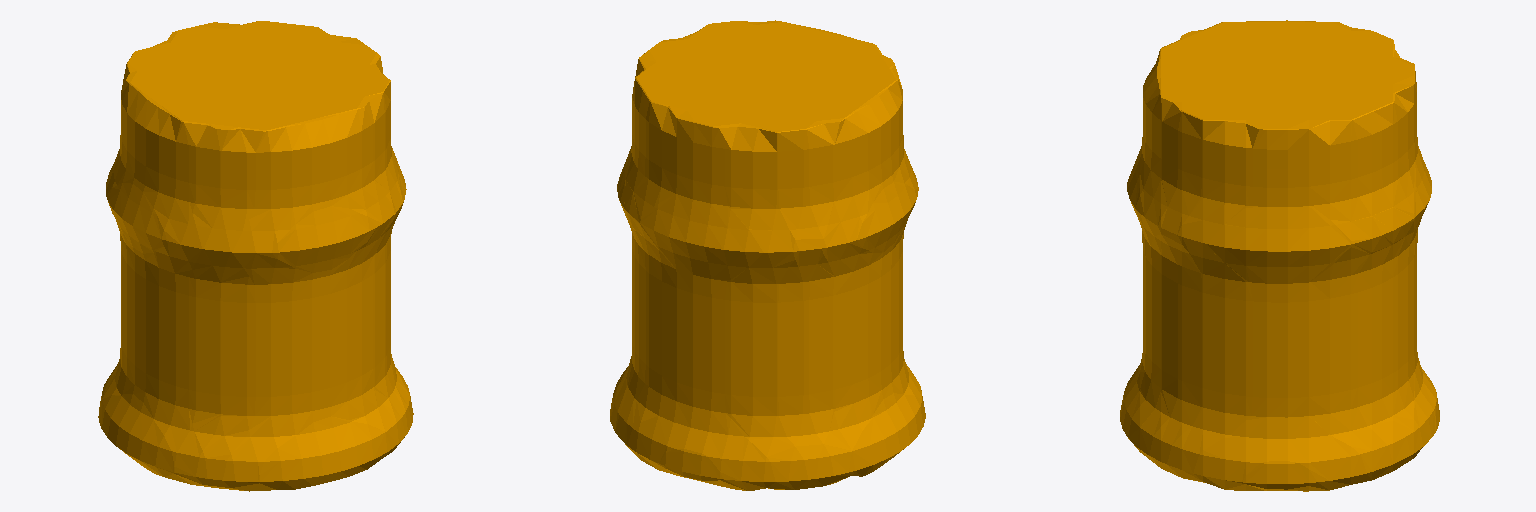
URDF robot description (cylinder_../../meshes/cylinders/cylinder_119.stl):
<?xml version="1.0" encoding="utf-8"?>  <robot name="cylinder_../../meshes/cylinders/cylinder_119.stl">   <link name="cylinder_../../meshes/cylinders/cylinder_119.stl">     <visual>       <geometry>         <mesh filename="../meshes/cylinders/cylinder_119.stl" scale="1 1 1"/>       </geometry>     </visual>     <collision>       <geometry>         <mesh filename="../meshes/cylinders/cylinder_119.stl" scale="1 1 1"/>       </geometry>     </collision>     <inertial>        <origin         xyz="0 0 0"         rpy="0 0 0" />       <mass value="0.3263319975037567"/>       <origin rpy="0 0 0" xyz="0 0 0"/>       <inertia ixx="0.0003323548772991801" ixy="-4.068850250374259e-08" ixz="-1.9447587403301903e-07" iyy="0.0003323627566936224" iyz="-1.8862979371546534e-07" izz="0.0001870784685221634"/>     </inertial>   </link>  </robot>

--- Facts derived from the render (not from the file) ---
Views: 3 orthographic renders of the robot side by side, from view 1: azimuth 30°, elevation 25°; view 2: azimuth 150°, elevation 25°; view 3: azimuth 270°, elevation 25°.
Model cylinder_../../meshes/cylinders/cylinder_119.stl with 1 links and 0 joints (none), rooted at cylinder_../../meshes/cylinders/cylinder_119.stl, posed every joint at zero.
Visible links, largest first — view 1: cylinder_../../meshes/cylinders/cylinder_119.stl; view 2: cylinder_../../meshes/cylinders/cylinder_119.stl; view 3: cylinder_../../meshes/cylinders/cylinder_119.stl.
Link boxes in pixels (box(x1,y1,x2,y2)): cylinder_../../meshes/cylinders/cylinder_119.stl: box(98, 21, 413, 491); cylinder_../../meshes/cylinders/cylinder_119.stl: box(610, 20, 925, 490); cylinder_../../meshes/cylinders/cylinder_119.stl: box(1120, 20, 1439, 491).
Bounding box of the posed robot: 0.0759 × 0.0759 × 0.0949 m (x, y, z).
Meshes: 1 distinct files referenced, 1 mesh visuals loaded (1 binary STL).